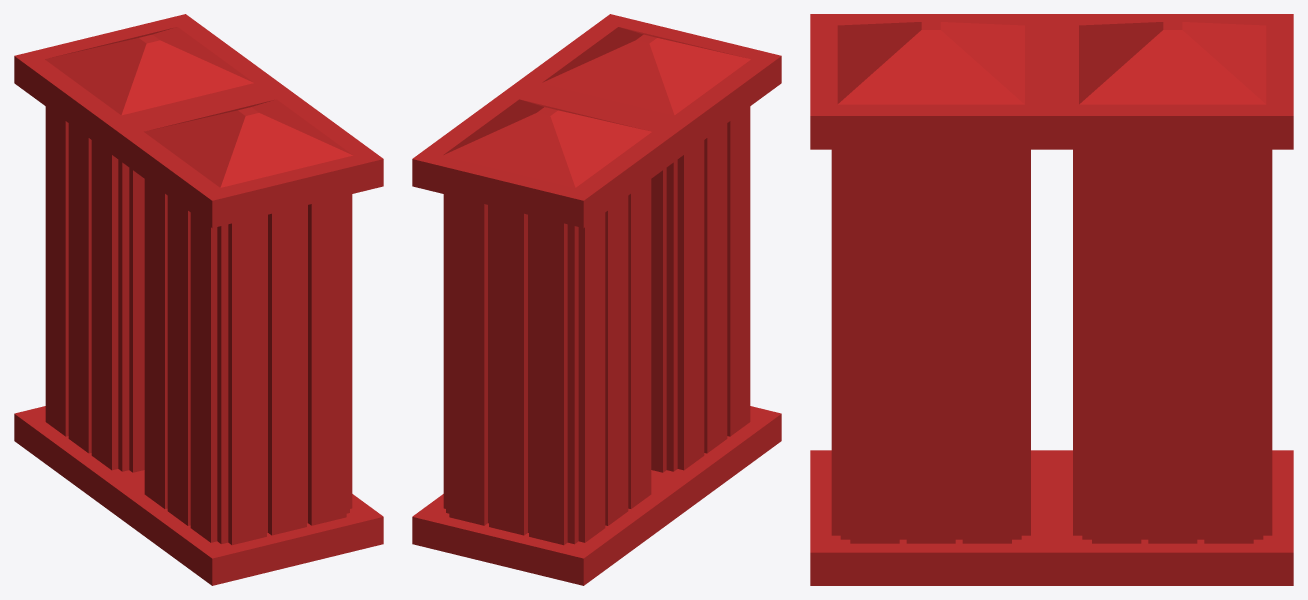
Rendered from Model_Horde_Obstacle.fbx.
3 views of the same model, side by side, from view 1: azimuth 30°, elevation 25°; view 2: azimuth 150°, elevation 25°; view 3: azimuth 270°, elevation 25° (orthographic). The views are drawn at different scales.
Parts seen in each view (by area): view 1: Model_Frost_Obstacle; view 2: Model_Frost_Obstacle; view 3: Model_Frost_Obstacle.
Part boxes in pixels (x1,y1,x2,y2): Model_Frost_Obstacle: (14,14,383,585); Model_Frost_Obstacle: (412,14,781,585); Model_Frost_Obstacle: (810,14,1293,585).
Bounding box in the file's own units: 100 × 233 × 200.
